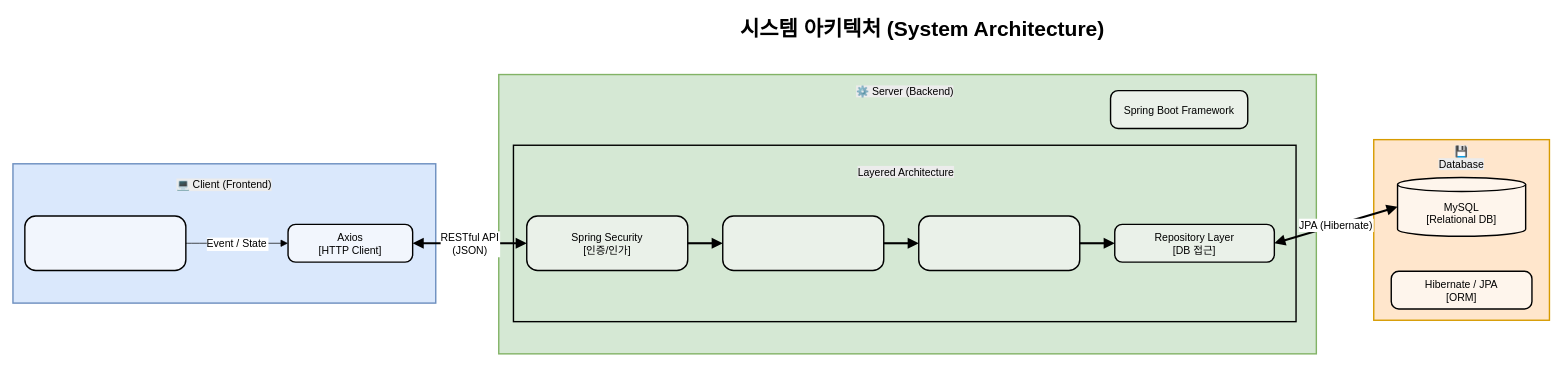
This 1562x366 diagram has some shape labels left out. The shapes that lost their labels are listed below. From the top down, each one's centre as x and y in pixels, then its label:
At point (105, 243): "React.js (SPA) [User Interface]".
At point (803, 243): "Controller Layer [API 요청 처리]".
At point (999, 243): "Service Layer [비즈니스 로직]".
